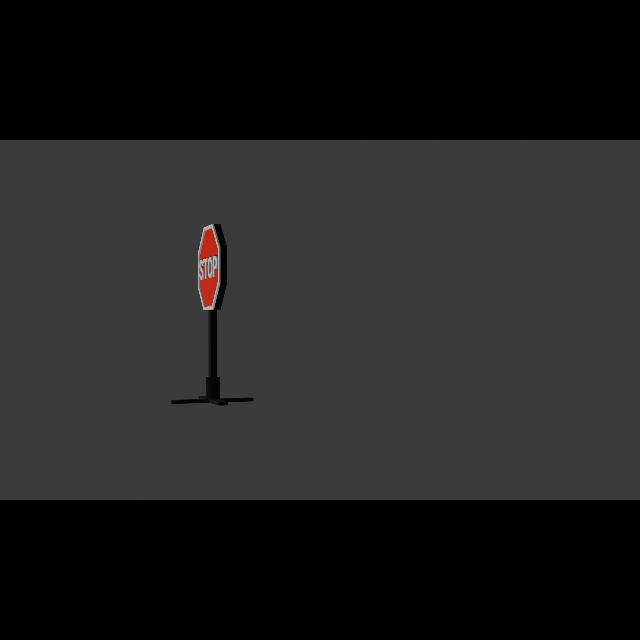sign_stop: (198, 225, 228, 312)
